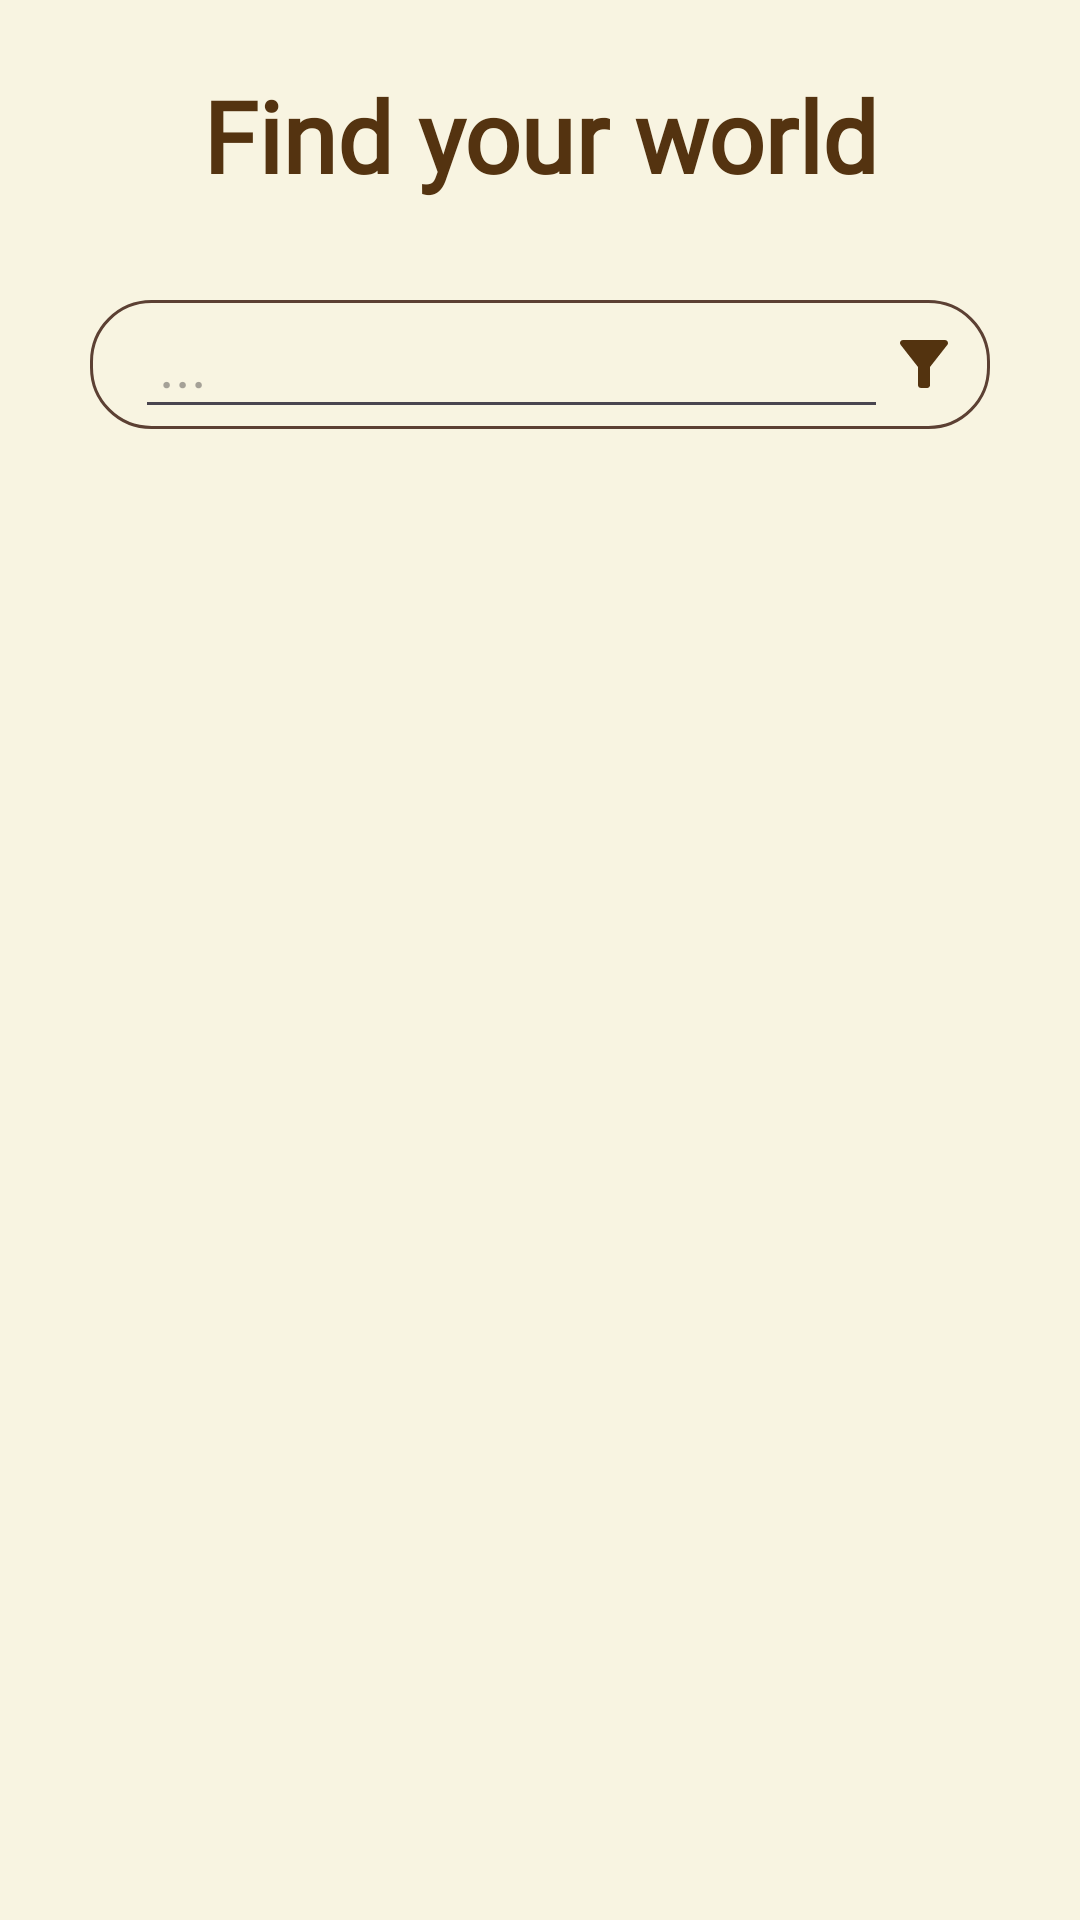

Named icons in this screenshot (1080 x 1920) and their centers, [x,y]:
filter: [924,364]
